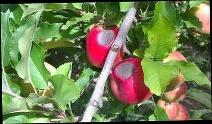rotten apple: (107, 55, 156, 104), (81, 27, 131, 68)
